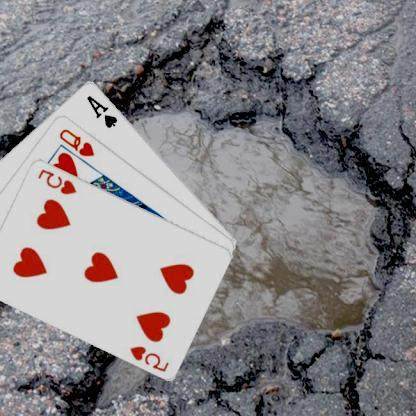5H: (36, 166, 80, 196), (129, 343, 172, 373)
AS: (86, 92, 121, 129)
QH: (58, 126, 98, 158)
